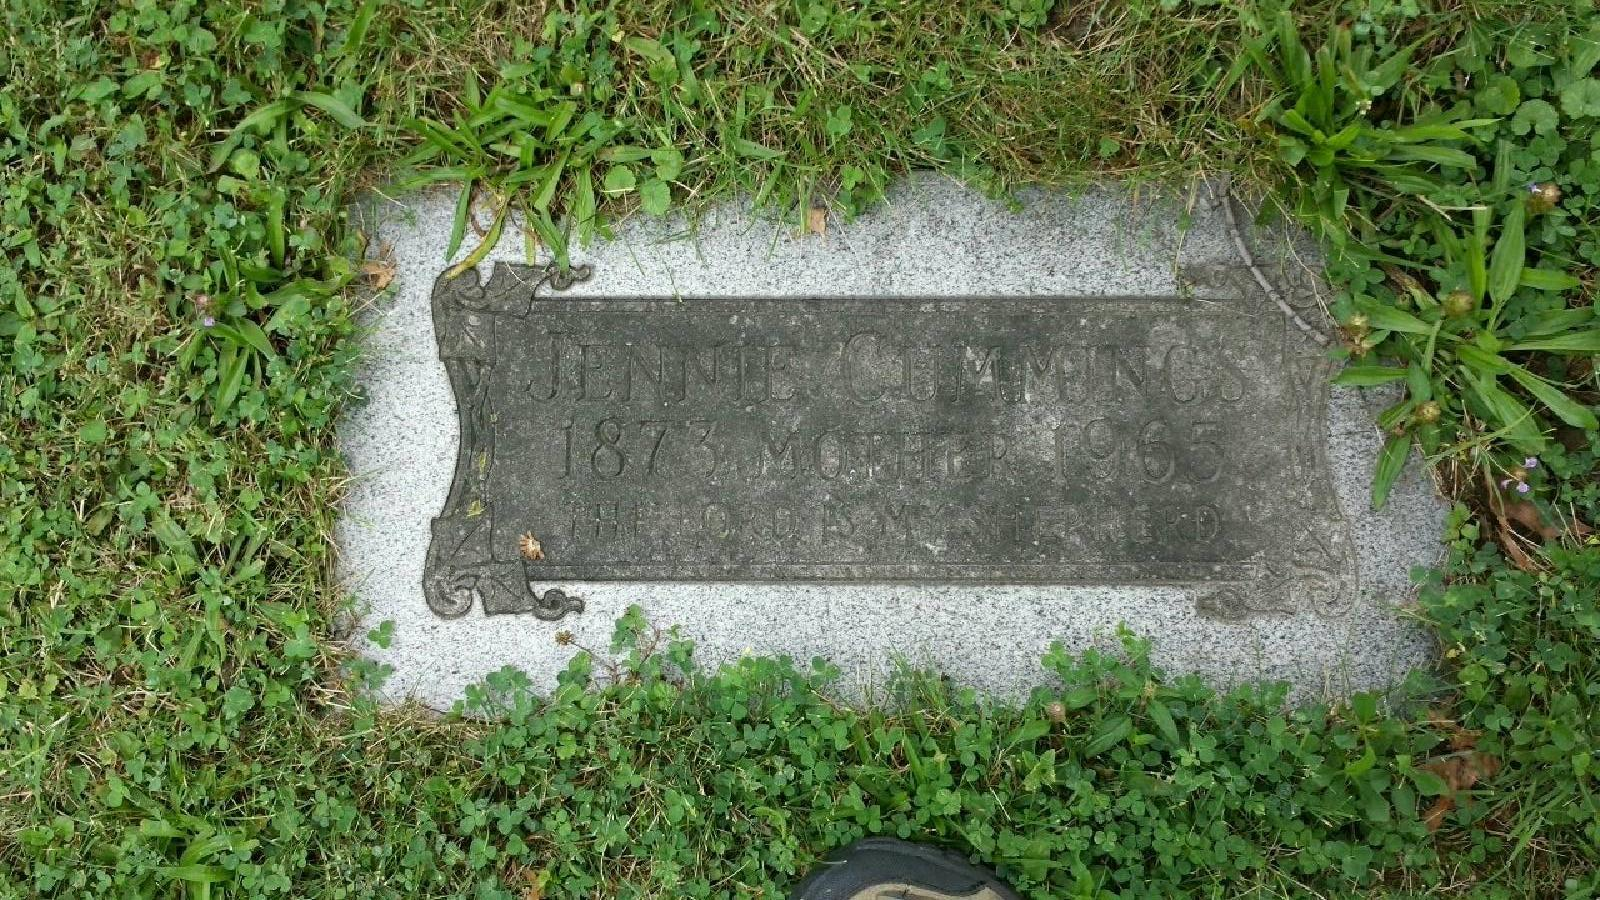flat: (311, 110, 1497, 784)
